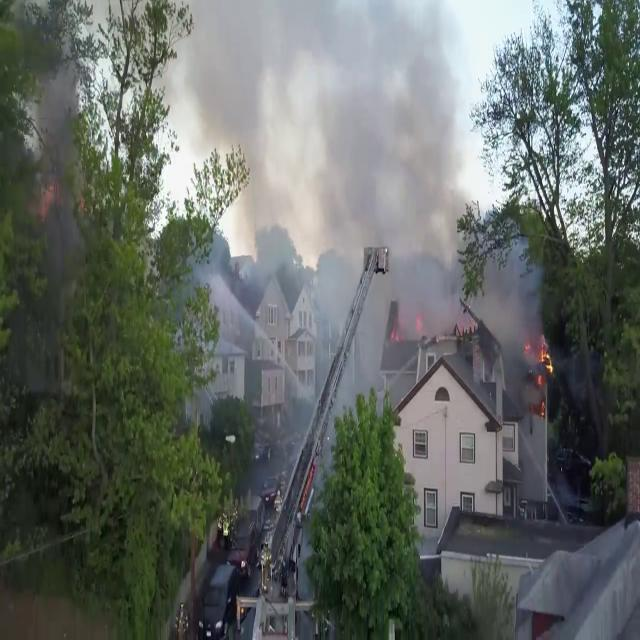Smoke: (194, 1, 490, 376)
